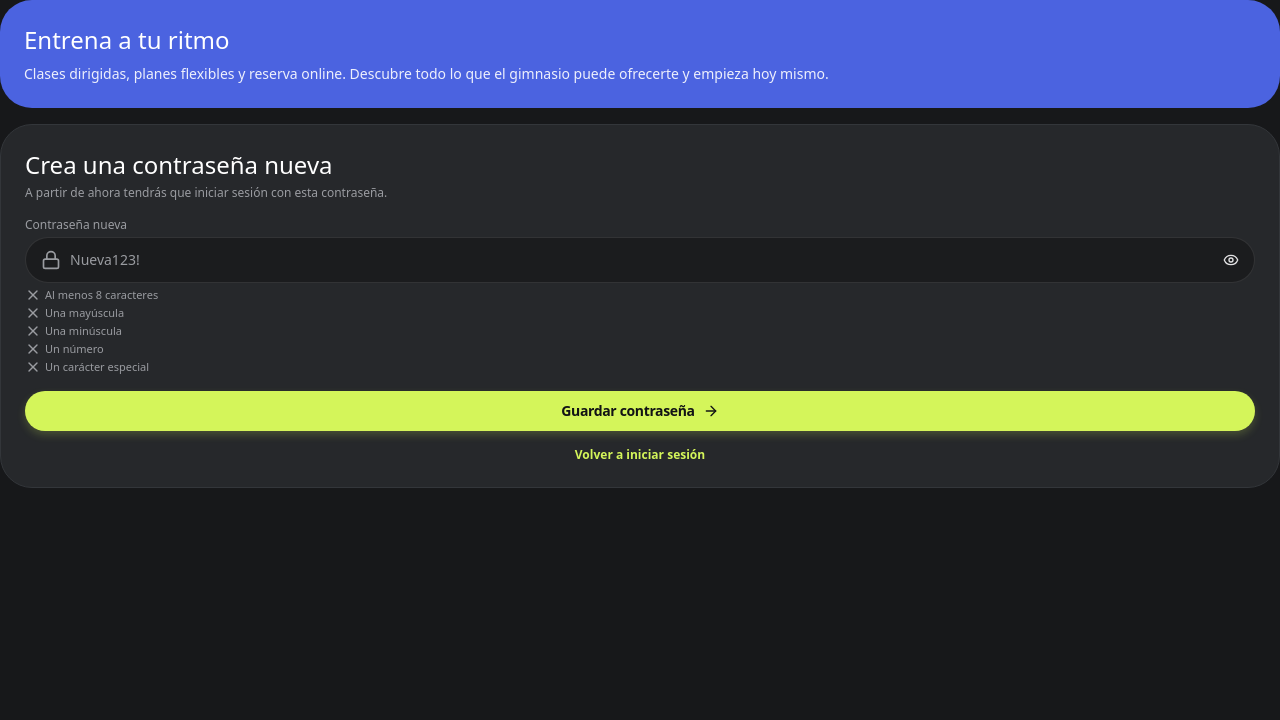
Test: ResetPasswordPage › muestra el mensaje del backend cuando el token ya no vale (400)
Type "Nueva123!" into the password field labelled "Contraseña nueva" at point(640, 260), box [25,237,1255,283]
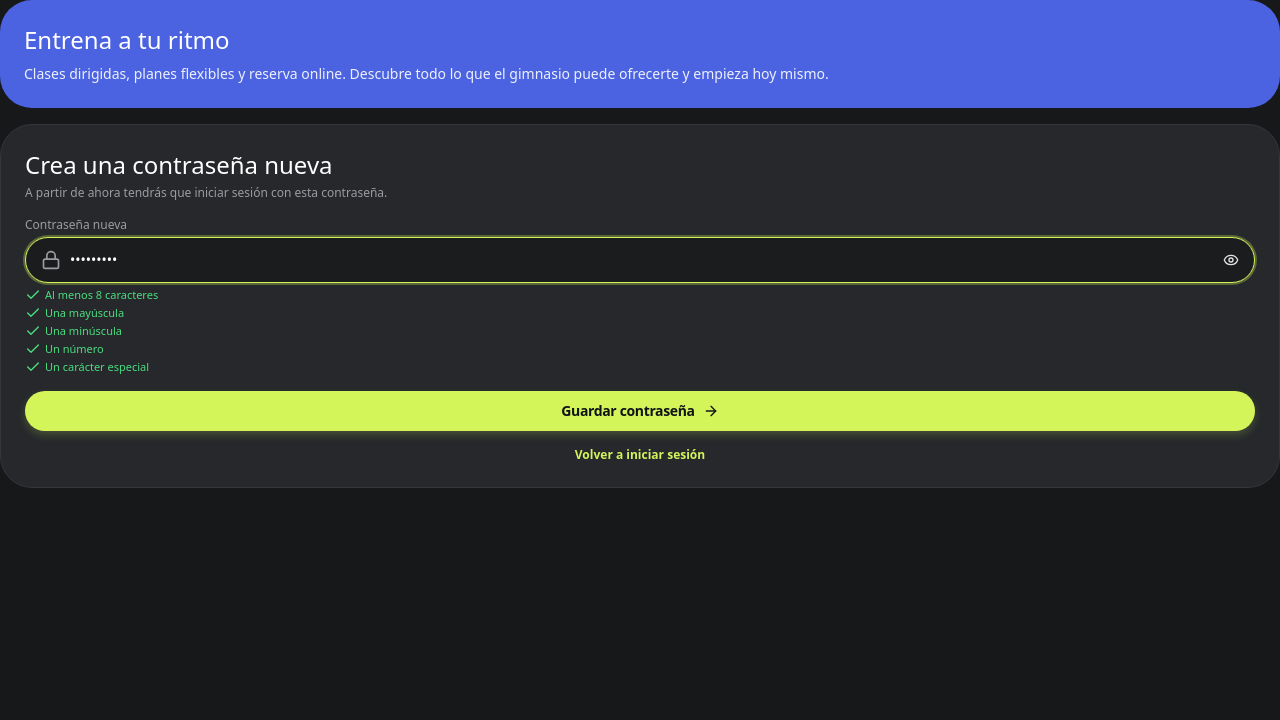
Click the button "Guardar contraseña" at point(640, 411), box [25,391,1255,431]
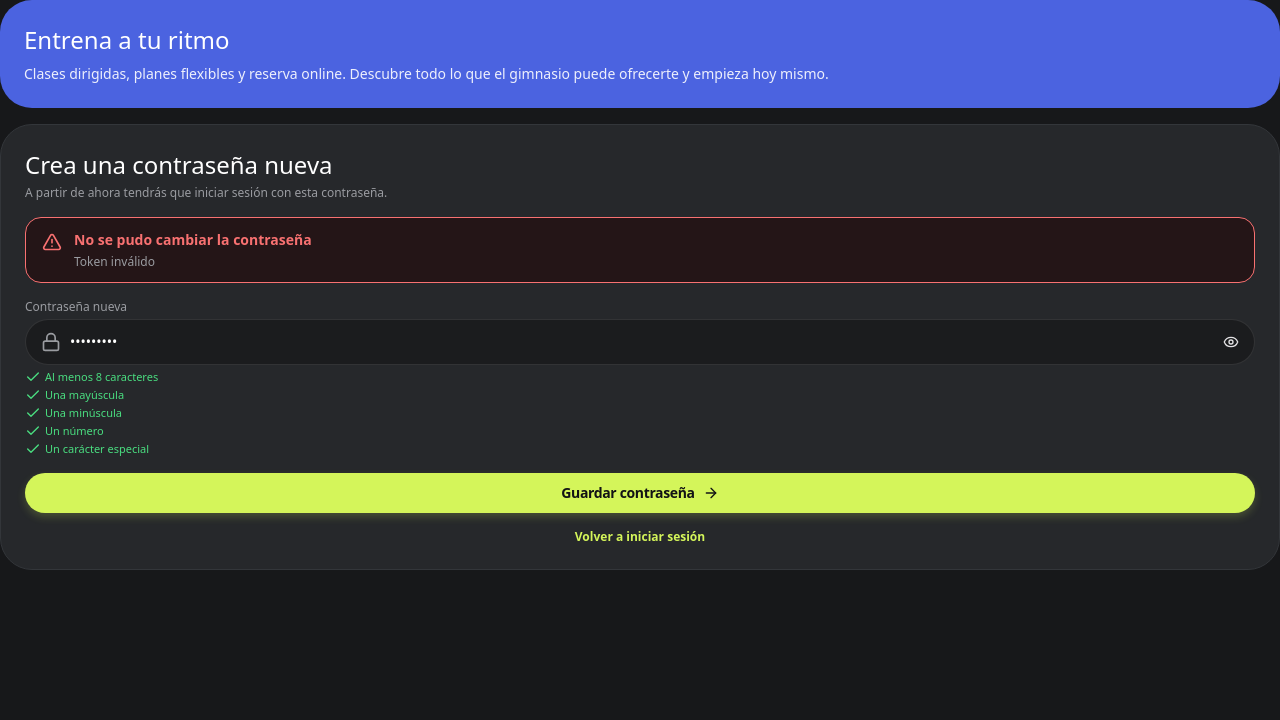
Result: the message shows "Token inválido" at [74,253,155,270]
